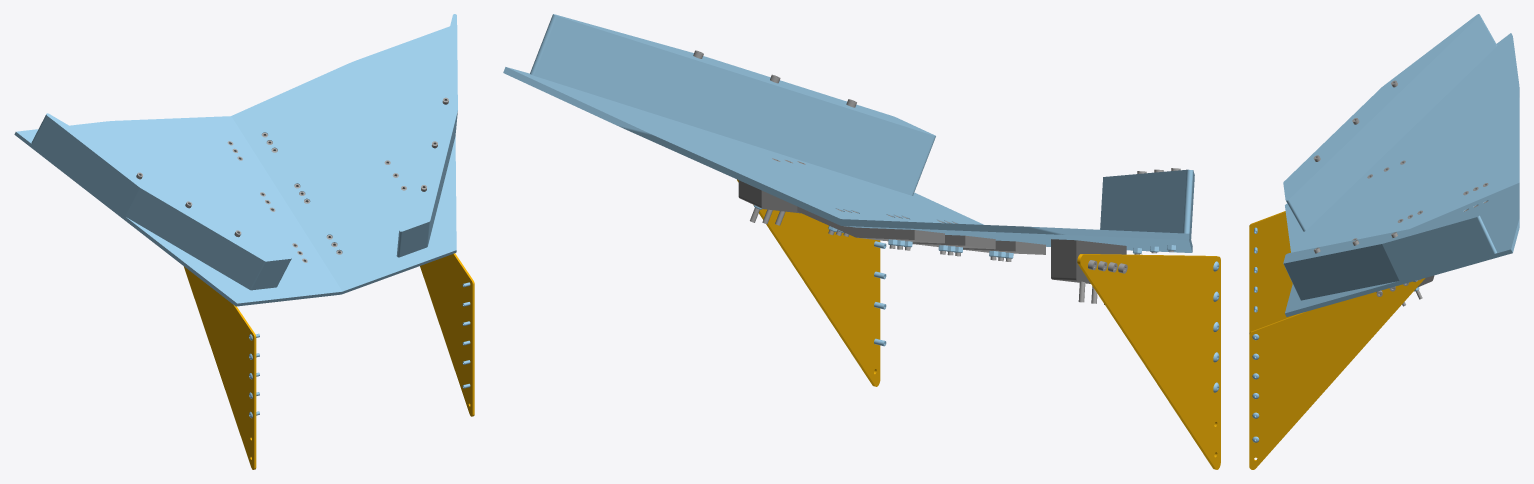
The picture shows the model from 3 angles, left to right: view 1: azimuth 30°, elevation 25°; view 2: azimuth 150°, elevation 25°; view 3: azimuth 270°, elevation 25°; orthographic projection. The views are drawn at different scales.
Visible parts, largest first — view 1: Part 4, Part 12, Part 10 (×2), Part 13; view 2: Part 13, Part 10 (×2), Part 4, Part 12, Part 11, Part 5, Part 9; view 3: Part 4, Part 10 (×2), Part 12, Part 13.
Part boxes in pixels (x1,y1,x2,y2): Part 4: [14, 26, 456, 306]; Part 12: [31, 113, 291, 290]; Part 10 (×2): [184, 253, 474, 469]; Part 13: [396, 14, 457, 257]; Part 13: [530, 14, 935, 195]; Part 10 (×2): [737, 179, 1220, 469]; Part 4: [503, 67, 1192, 252]; Part 12: [1100, 169, 1194, 238]; Part 11: [1051, 239, 1126, 283]; Part 5: [797, 206, 944, 243]; Part 9: [738, 180, 800, 213]; Part 4: [1285, 33, 1519, 316]; Part 10 (×2): [1249, 211, 1425, 469]; Part 12: [1283, 14, 1497, 231]; Part 13: [1283, 215, 1497, 300].
Bounding box in the file's own units: 0.7111 × 0.4589 × 0.374.
